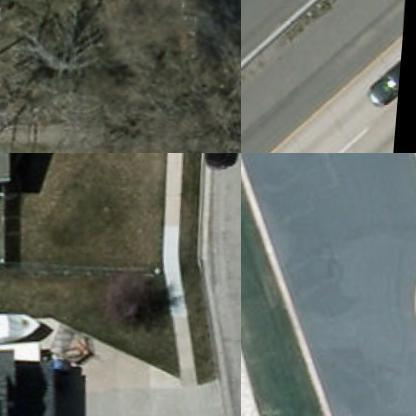boat: (0, 305, 52, 354)
car: (366, 42, 404, 103), (202, 153, 240, 170)
